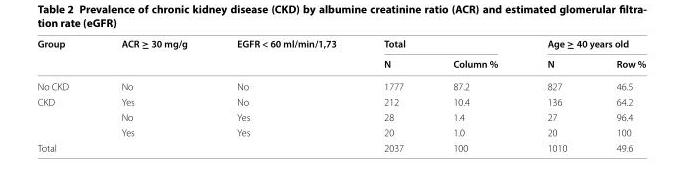table: (36, 36, 645, 153)
table column: (211, 36, 359, 153), (94, 36, 211, 153), (427, 36, 521, 153), (521, 36, 591, 153), (359, 36, 427, 153), (36, 36, 94, 153), (591, 36, 645, 153)
table column header: (36, 36, 645, 74)
table row: (36, 36, 645, 56), (36, 74, 645, 93), (36, 56, 645, 74), (36, 93, 645, 109), (36, 109, 645, 124), (36, 124, 645, 139), (36, 139, 645, 153)
table spanning cell: (211, 36, 359, 74), (36, 139, 359, 153), (94, 36, 211, 74), (359, 36, 521, 56), (36, 93, 94, 139), (521, 36, 645, 56), (36, 36, 94, 74)
